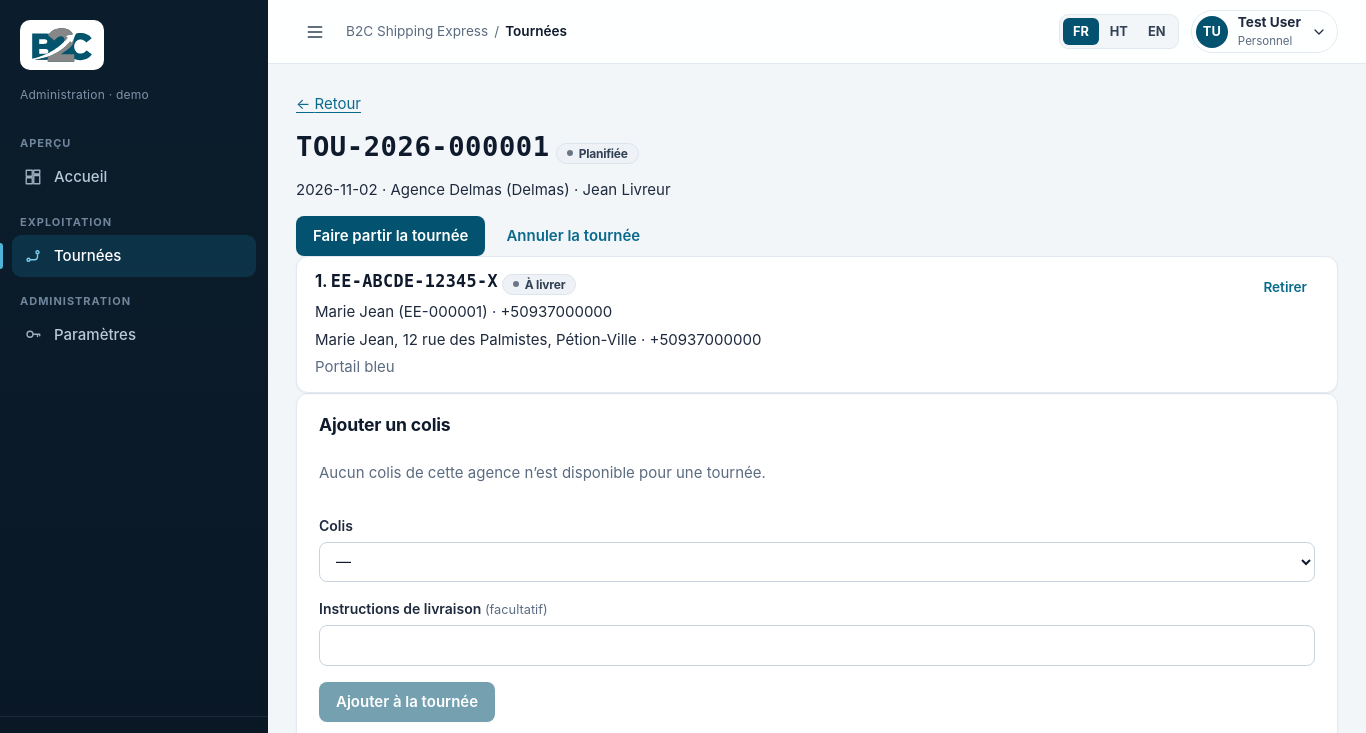
it: tournées (personnel) › tournée planifiée : départ en une action, retrait d’un arrêt
Check: the list item with test id "route-stop" shows "Portail bleu", box [315, 357, 395, 376]
Click the button "Retirer".
click(1285, 287)  # box [1251, 271, 1319, 303]
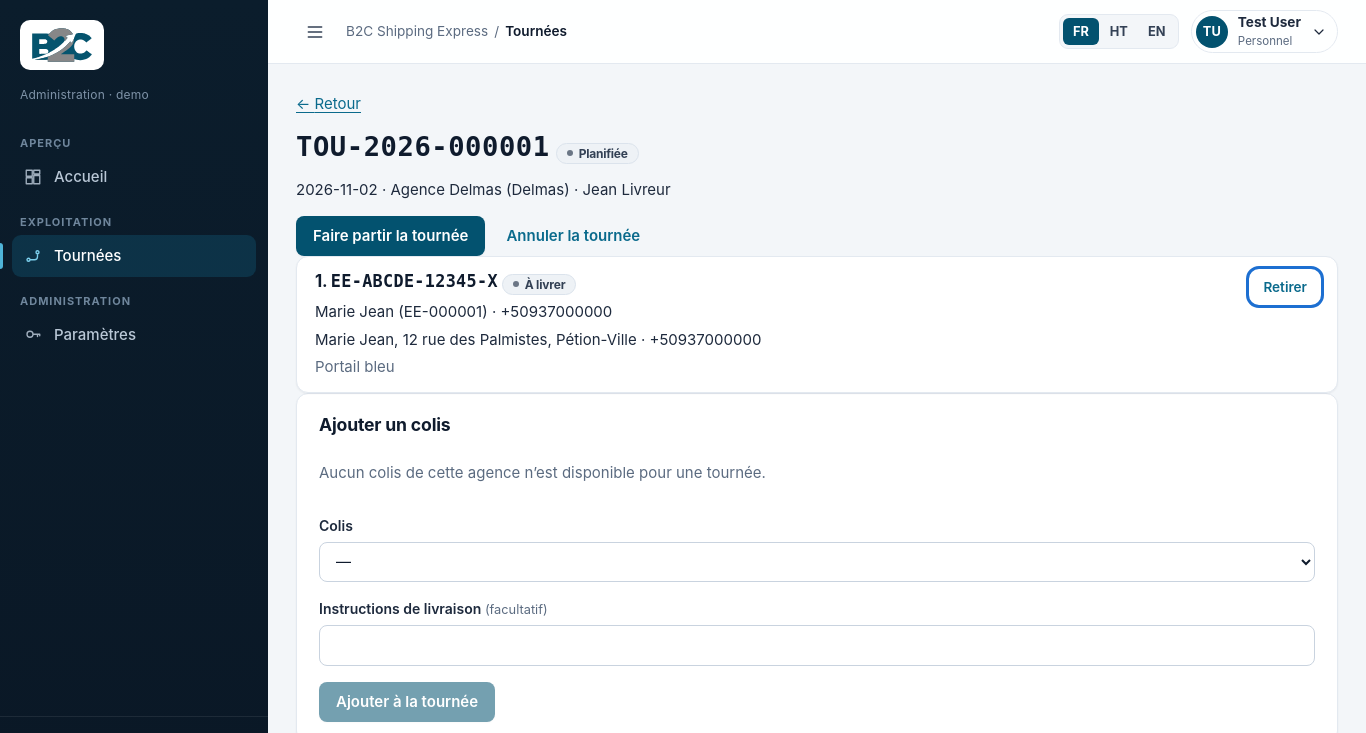
Click the button "Faire partir la tournée".
click(391, 236)  # box [296, 216, 486, 256]
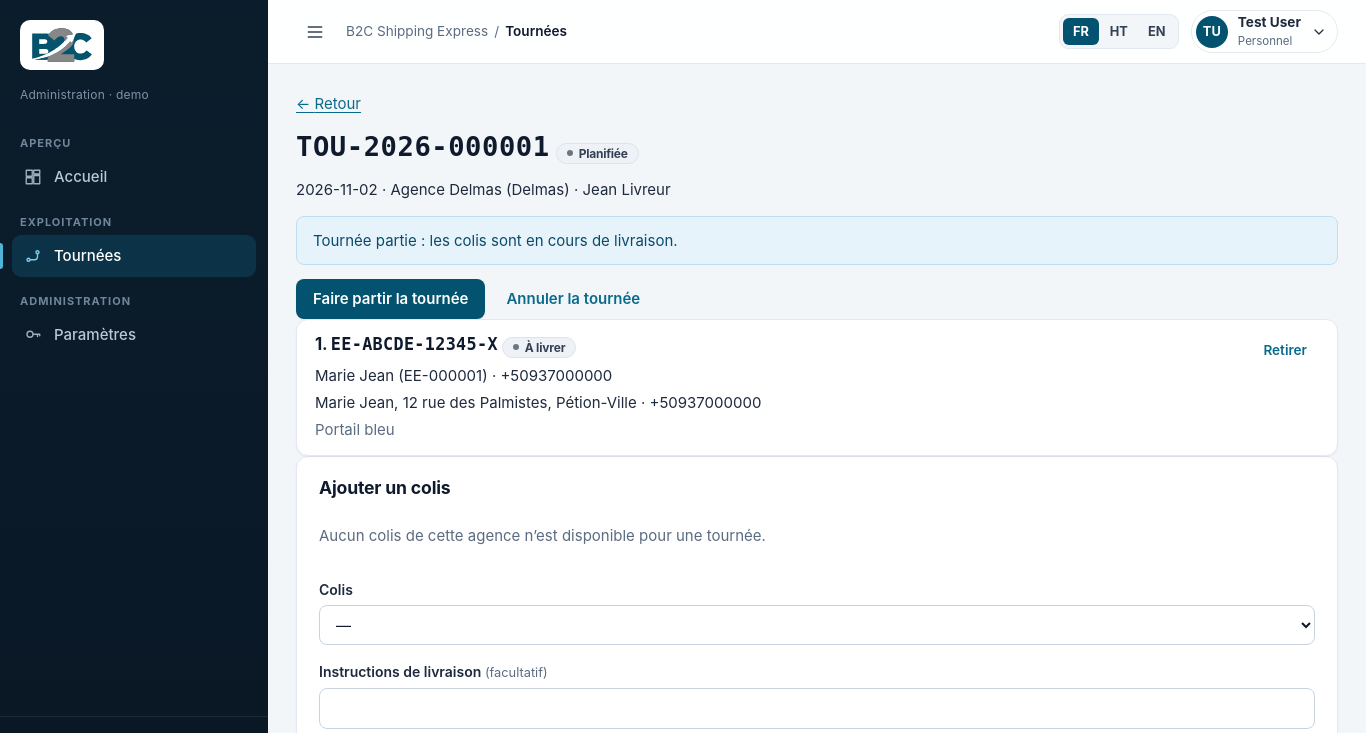
Check: the text "Tournée partie : les colis sont en cours de livraison." is shown, box [313, 229, 678, 252]
